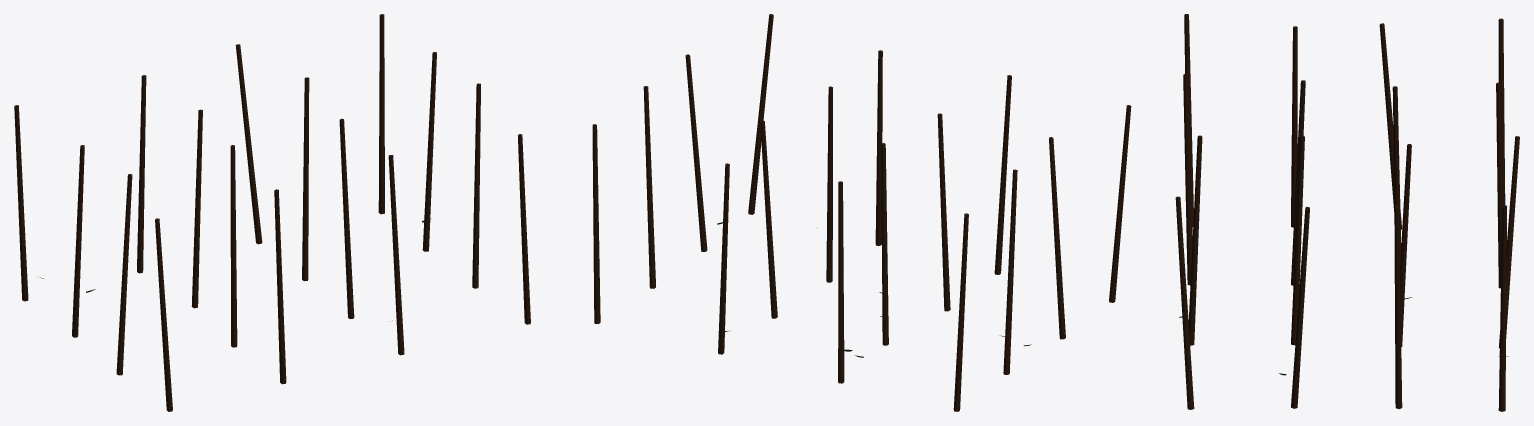
File: fm_yam_1.glb
3 renders of one model, left to right at view 1: azimuth 30°, elevation 25°; view 2: azimuth 150°, elevation 25°; view 3: azimuth 270°, elevation 25°, orthographic. The views are drawn at different scales.
Visible parts, largest first — view 1: fm_yam_1; view 2: fm_yam_1; view 3: fm_yam_1.
Boxes of the visible parts, x1,y1,x2,y2 form: fm_yam_1: (14, 14, 530, 411); fm_yam_1: (592, 14, 1131, 411); fm_yam_1: (1175, 14, 1519, 411).
Bounding box in the file's own units: 3.42 × 1.6 × 2.55.
